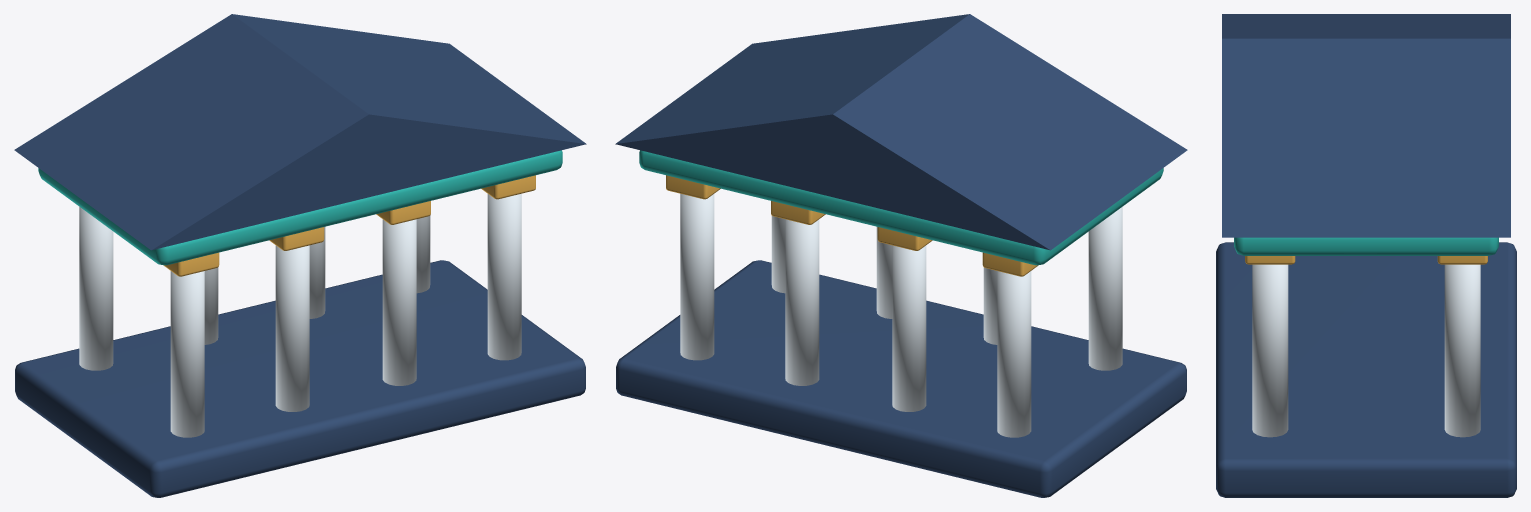
File: classical-temple-lite.glb
3 renders of one model, left to right at view 1: azimuth 30°, elevation 25°; view 2: azimuth 150°, elevation 25°; view 3: azimuth 270°, elevation 25°, orthographic. The views are drawn at different scales.
Visible parts, largest first — view 1: Platform; view 2: Platform; view 3: Platform.
Boxes of the visible parts, x1,y1,x2,y2 form: Platform: (14, 14, 586, 497); Platform: (615, 14, 1187, 497); Platform: (1216, 14, 1516, 497).
Size of the model in its own units: 2.2 by 1.61 by 1.25.
